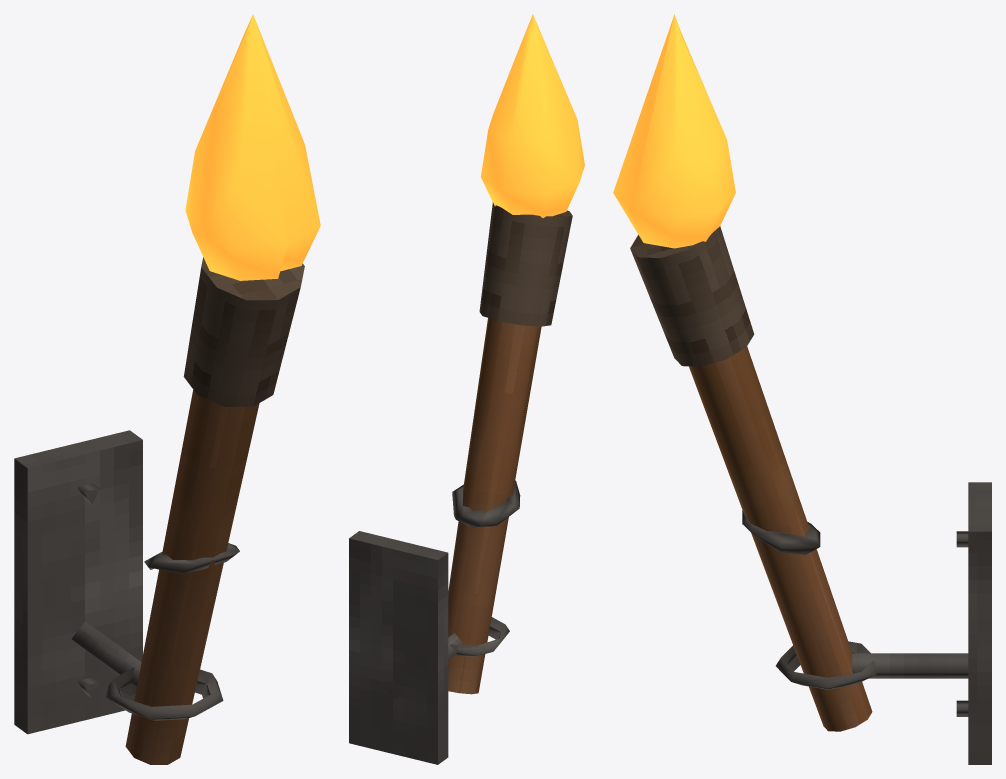
File: wall-torch.lod2.glb
3 renders of one model, left to right at view 1: azimuth 30°, elevation 25°; view 2: azimuth 150°, elevation 25°; view 3: azimuth 270°, elevation 25°, orthographic. The views are drawn at different scales.
Visible parts, largest first — view 1: WallTorch_iron, Flame, WallTorch_oak, WallTorch_cloth; view 2: WallTorch_iron, WallTorch_oak, Flame, WallTorch_cloth; view 3: WallTorch_oak, Flame, WallTorch_iron, WallTorch_cloth.
Boxes of the visible parts, x1=… form: WallTorch_iron: x1=14, y1=430, x2=239, y2=734; Flame: x1=185, y1=14, x2=320, y2=280; WallTorch_oak: x1=125, y1=390, x2=259, y2=764; WallTorch_cloth: x1=183, y1=257, x2=304, y2=406; WallTorch_iron: x1=349, y1=480, x2=520, y2=764; WallTorch_oak: x1=448, y1=318, x2=541, y2=694; Flame: x1=481, y1=14, x2=584, y2=217; WallTorch_cloth: x1=479, y1=202, x2=572, y2=326; WallTorch_oak: x1=689, y1=346, x2=872, y2=731; Flame: x1=613, y1=14, x2=735, y2=248; WallTorch_iron: x1=742, y1=482, x2=991, y2=764; WallTorch_cloth: x1=630, y1=226, x2=754, y2=366.
Size of the model in its own units: 0.105 by 0.6853 by 0.3238.
Materials: 4 (3 with a texture image).
